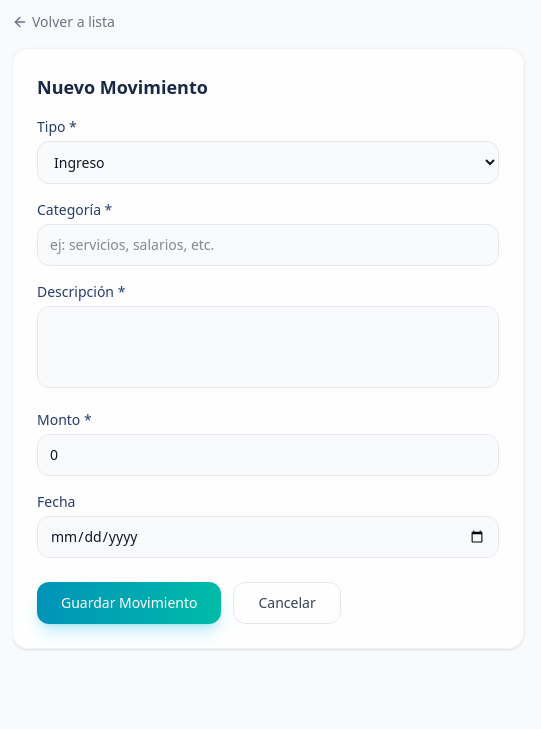
Test case: MovimientosCrear › shows validation error for short descripcion
Type "cat" into the field labelled "Categoría" at coordinates (268, 245), box [37,224,499,266]
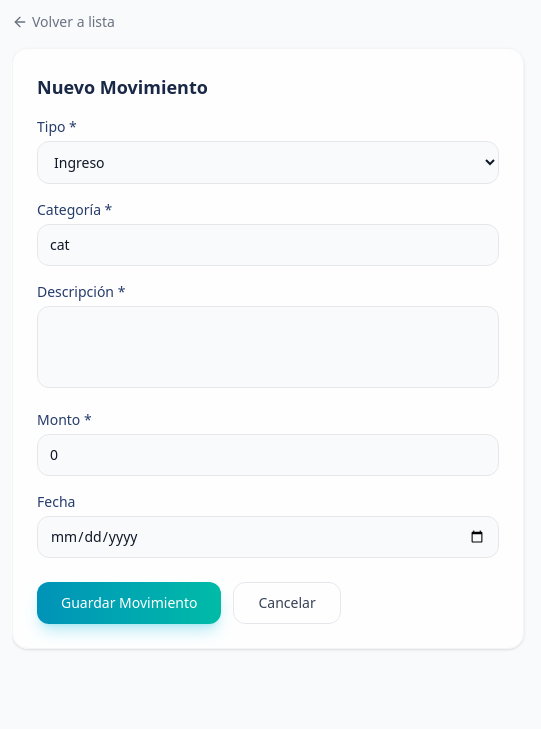
Type "ab" into the text box labelled "Descripción" at coordinates (268, 347), box [37,306,499,388]
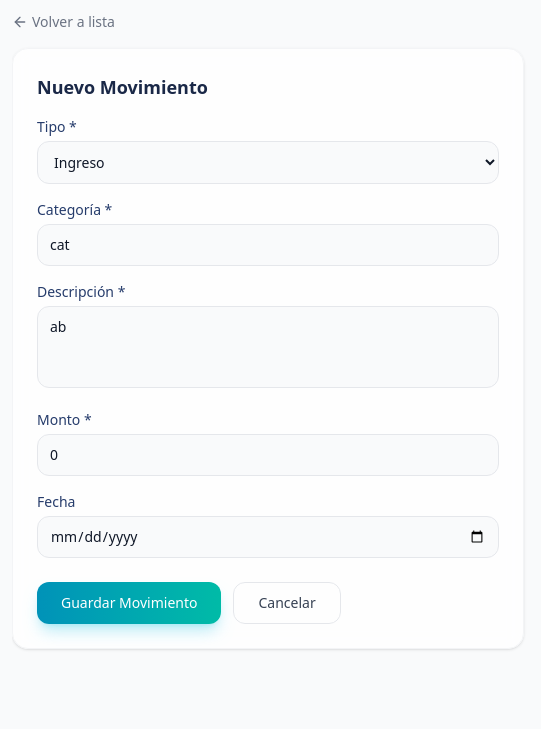
Click the button "Guardar Movimiento" at coordinates (129, 603), box [37,582,222,624]
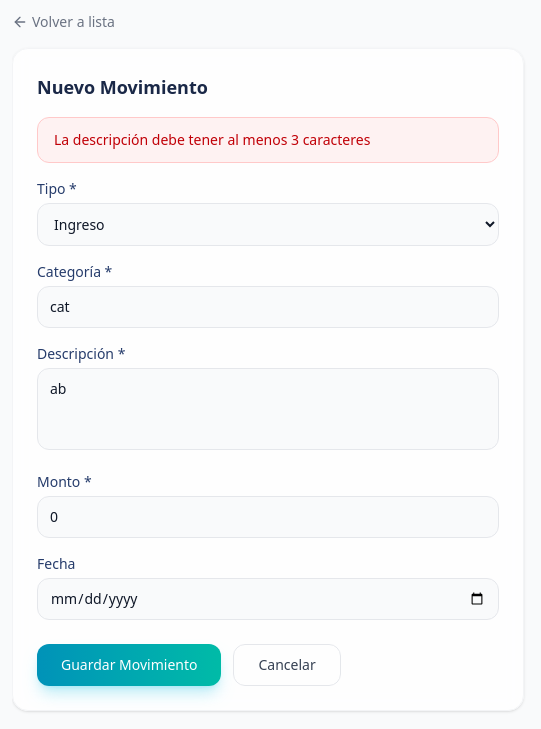
Expected: the text "La descripción debe tener al menos 3 caracteres" is shown, [37,117,499,163]
